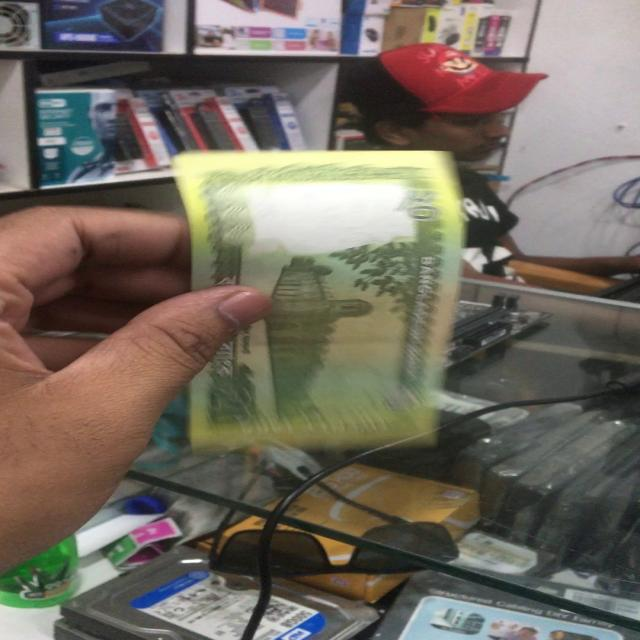Taka: (175, 148, 449, 452)
